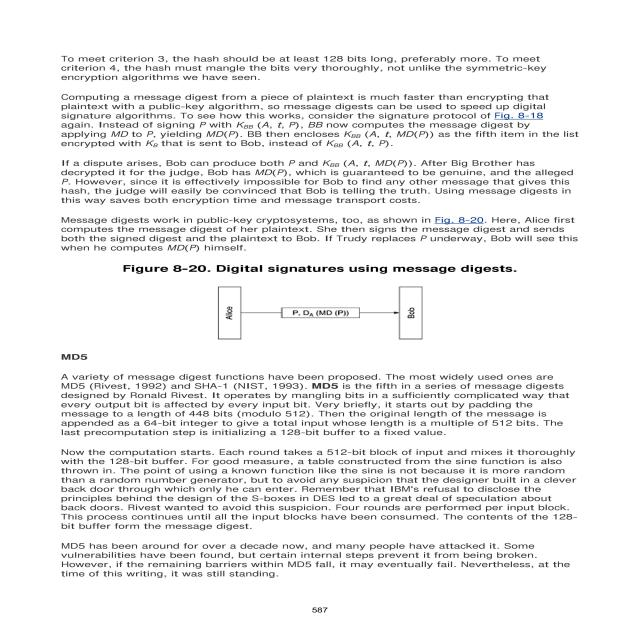diagram: (80, 256, 551, 357)
